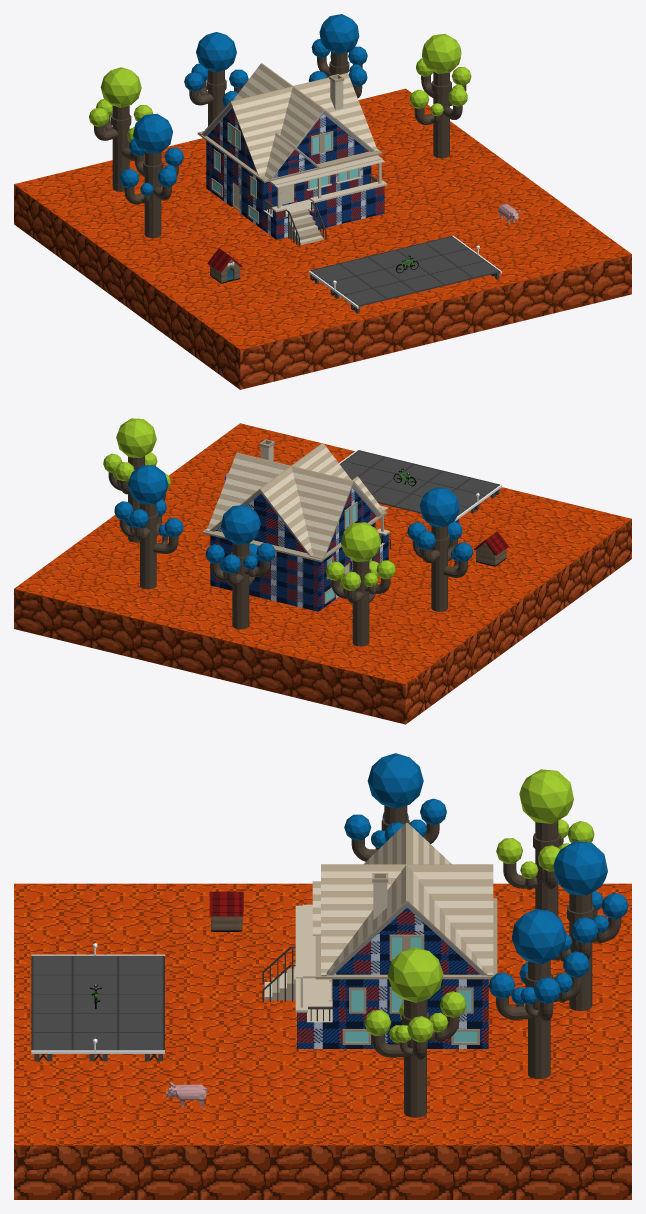
3 views of the same model, one above another, from view 1: azimuth 30°, elevation 25°; view 2: azimuth 150°, elevation 25°; view 3: azimuth 270°, elevation 25° (orthographic). The views are drawn at different scales.
Parts seen in each view (by area): view 1: Cube.001, Cube.171, OBJRANDOM_DOGHOUSE; view 2: Cube.001, Cube.171, OBJRANDOM_DOGHOUSE; view 3: Cube.001, Cube.171, OBJRANDOM_DOGHOUSE, ANIMAL_CERDO.
Boxes of the visible parts, <box> form: Cube.001: <box>14,14,631,389</box>; Cube.171: <box>197,63,387,246</box>; OBJRANDOM_DOGHOUSE: <box>207,248,242,283</box>; Cube.001: <box>14,418,631,724</box>; Cube.171: <box>202,439,390,611</box>; OBJRANDOM_DOGHOUSE: <box>473,531,508,566</box>; Cube.001: <box>14,753,631,1199</box>; Cube.171: <box>262,823,497,1048</box>; OBJRANDOM_DOGHOUSE: <box>209,891,243,931</box>; ANIMAL_CERDO: <box>165,1082,208,1107</box>.
Bounding box in the file's own units: 4000 × 1680 × 4000.
35 materials, 5 textured.
